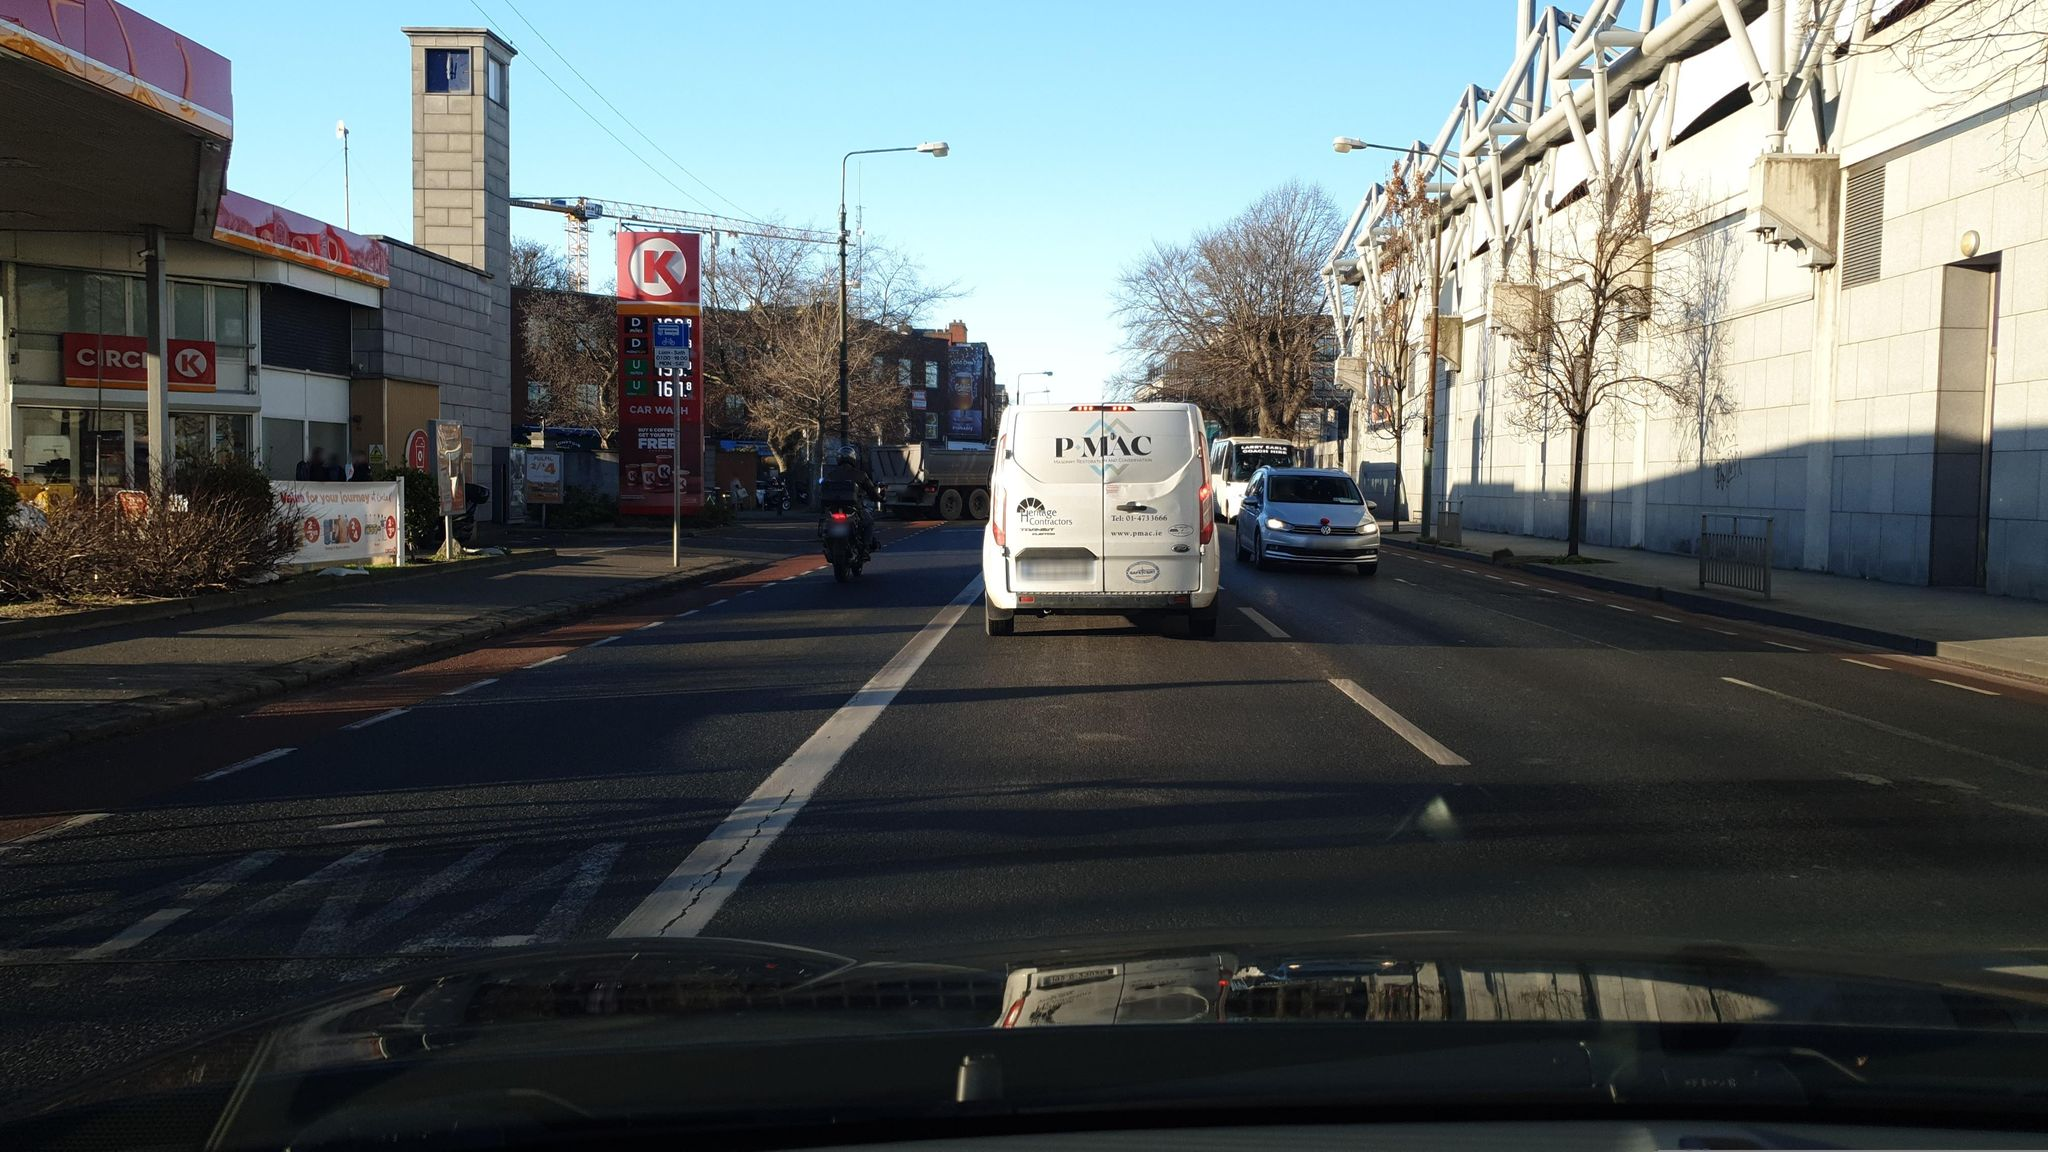vinyl banner: (262, 467, 407, 568)
